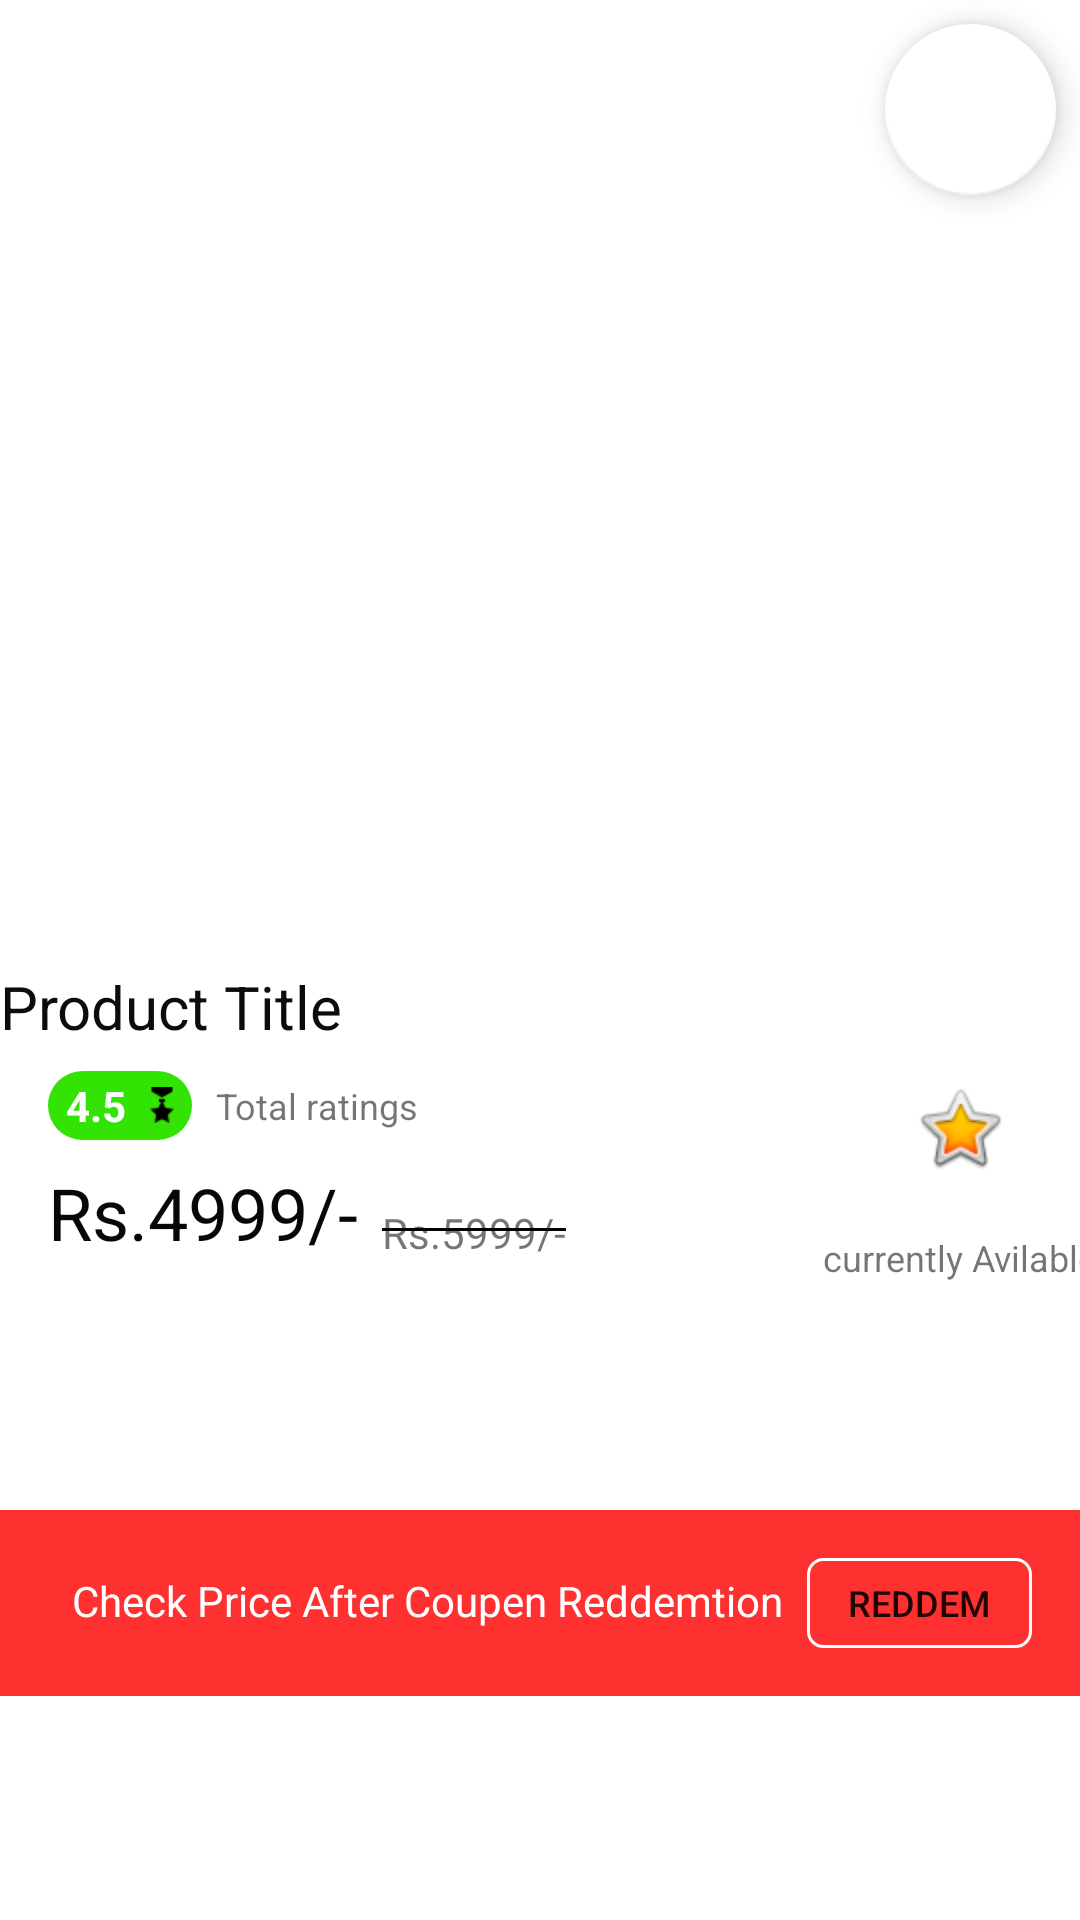

Locate icon controls on the screen. Image size 1080w x 1920h, boxes as (x1, y1, x2, y2).
star on: (921, 1090, 1001, 1168)
